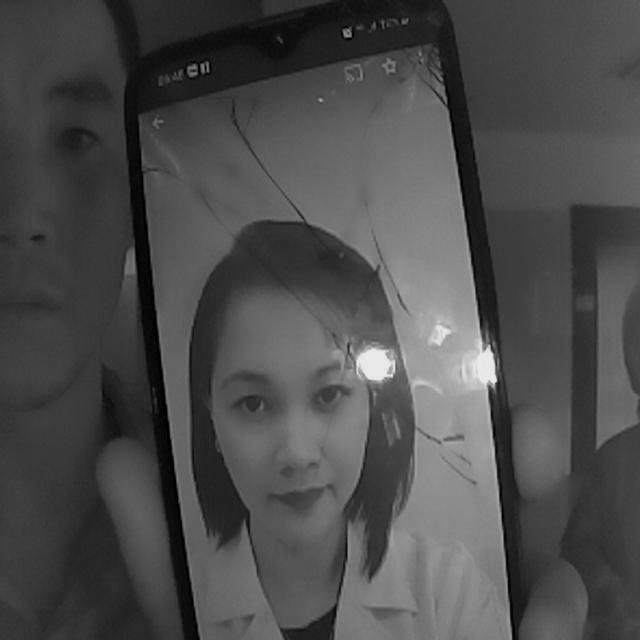fake: (121, 4, 535, 638)
